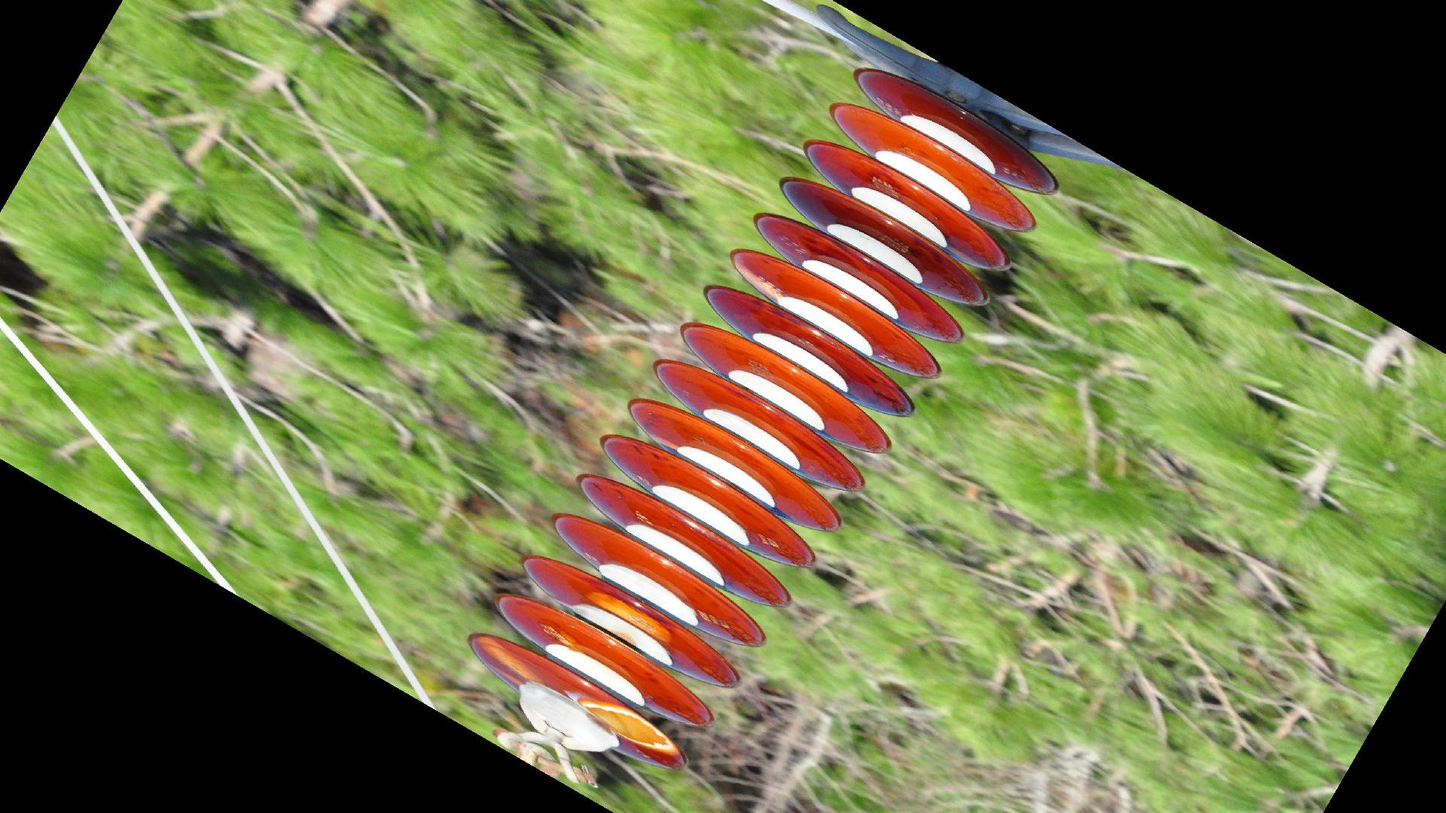insulator: (462, 61, 1064, 779)
insulator_flashover: (575, 695, 676, 754), (583, 589, 674, 646), (474, 631, 541, 686), (734, 261, 786, 300)
